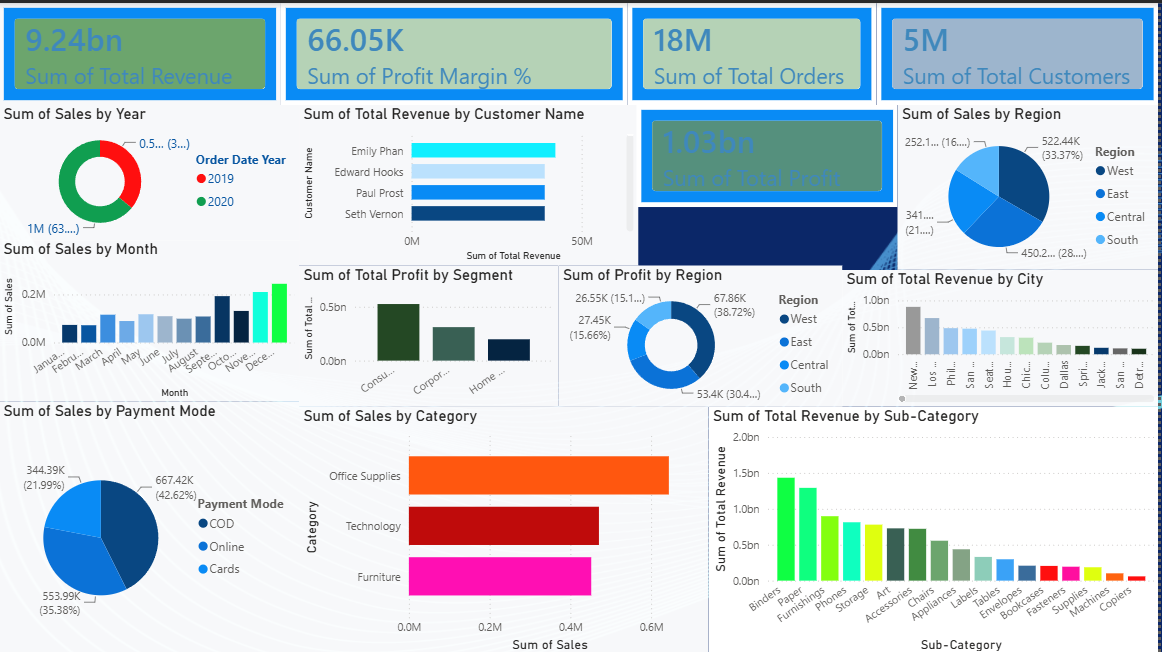

The dashboard page shown, as its layout file describes it:
{"tool":"powerbi","page":{"name":"Page 1","canvas":[1280,720],"ordinal":0},"visuals":[{"type":"clusteredBarChart","fields":{"Category":["SuperStore_Sales_Dataset.Category"],"Y":["Sum(SuperStore_Sales_Dataset.Sales)"]},"box":[331.3,445.6,452.2,275],"z":0},{"type":"pieChart","fields":{"Y":["Sum(SuperStore_Sales_Dataset.Sales)"],"Category":["SuperStore_Sales_Dataset.Payment Mode"]},"box":[0,440.6,331.3,279.9],"z":1000},{"type":"columnChart","fields":{"Y":["Sum(SuperStore_Sales_Dataset.Total Revenue)"],"Category":["SuperStore_Sales_Dataset.Sub-Category"]},"box":[783.5,445.6,496.9,275],"z":2000},{"type":"cardVisual","fields":{"Data":["Sum(SuperStore_Sales_Dataset.Total Revenue)"]},"box":[0,0,311.4,112.6],"z":3000},{"type":"cardVisual","fields":{"Data":["Sum(SuperStore_Sales_Dataset.Total Profit)"]},"box":[704,112.6,288.2,112.6],"z":4000},{"type":"cardVisual","fields":{"Data":["Sum(SuperStore_Sales_Dataset.Total Orders)"]},"box":[694.1,0,275,112.6],"z":5000},{"type":"cardVisual","fields":{"Data":["Sum(SuperStore_Sales_Dataset.Total Customers)"]},"box":[969,0,311.4,112.6],"z":6000},{"type":"donutChart","fields":{"Y":["Sum(SuperStore_Sales_Dataset.Sales)"],"Category":["SuperStore_Sales_Dataset.Order Date.Variation.Date Hierarchy.Year","SuperStore_Sales_Dataset.Order Date.Variation.Date Hierarchy.Month"]},"box":[0,112.6,331.3,149.1],"z":7000},{"type":"clusteredColumnChart","fields":{"Y":["Sum(SuperStore_Sales_Dataset.Sales)"],"Category":["SuperStore_Sales_Dataset.Order Date.Variation.Date Hierarchy.Month"]},"box":[0,261.7,331.3,178.9],"z":8000},{"type":"pieChart","fields":{"Category":["SuperStore_Sales_Dataset.Region"],"Y":["Sum(SuperStore_Sales_Dataset.Sales)"]},"box":[992.2,112.6,288.2,182.2],"z":9000},{"type":"donutChart","fields":{"Category":["SuperStore_Sales_Dataset.Region"],"Y":["Sum(SuperStore_Sales_Dataset.Profit)"]},"box":[617.9,289.9,313.1,155.7],"z":10000},{"type":"columnChart","fields":{"Y":["Sum(SuperStore_Sales_Dataset.Total Revenue)"],"Category":["SuperStore_Sales_Dataset.City"]},"box":[930.9,294.9,349.5,150.7],"z":11000},{"type":"clusteredBarChart","fields":{"Y":["Sum(SuperStore_Sales_Dataset.Total Revenue)"],"Category":["SuperStore_Sales_Dataset.Customer Name"]},"box":[331.3,112.6,374.4,177.2],"z":12000},{"type":"columnChart","fields":{"Y":["Sum(SuperStore_Sales_Dataset.Total Profit)"],"Category":["SuperStore_Sales_Dataset.Segment"]},"box":[331.3,289.9,286.6,155.7],"z":13000},{"type":"cardVisual","fields":{"Data":["Sum(SuperStore_Sales_Dataset.Profit Margin %)"]},"box":[311.4,0,382.6,112.6],"z":14000}]}

Visuals, with their boxes in screenshot pixels (x1, y1, x2, y2), scaled from the page's 1280x720 canvas onto the 1162x652 screenshot:
clusteredBarChart - SuperStore_Sales_Dataset.Category x Sum(SuperStore_Sales_Dataset.Sales): x1=301 y1=404 x2=711 y2=651
pieChart - Sum(SuperStore_Sales_Dataset.Sales) x SuperStore_Sales_Dataset.Payment Mode: x1=0 y1=399 x2=301 y2=651
columnChart - Sum(SuperStore_Sales_Dataset.Total Revenue) x SuperStore_Sales_Dataset.Sub-Category: x1=711 y1=404 x2=1161 y2=651
cardVisual - Sum(SuperStore_Sales_Dataset.Total Revenue): x1=0 y1=0 x2=283 y2=102
cardVisual - Sum(SuperStore_Sales_Dataset.Total Profit): x1=639 y1=102 x2=901 y2=204
cardVisual - Sum(SuperStore_Sales_Dataset.Total Orders): x1=630 y1=0 x2=880 y2=102
cardVisual - Sum(SuperStore_Sales_Dataset.Total Customers): x1=880 y1=0 x2=1161 y2=102
donutChart - Sum(SuperStore_Sales_Dataset.Sales) x SuperStore_Sales_Dataset.Order Date.Variation.Date Hierarchy.Year: x1=0 y1=102 x2=301 y2=237
clusteredColumnChart - Sum(SuperStore_Sales_Dataset.Sales) x SuperStore_Sales_Dataset.Order Date.Variation.Date Hierarchy.Month: x1=0 y1=237 x2=301 y2=399
pieChart - SuperStore_Sales_Dataset.Region x Sum(SuperStore_Sales_Dataset.Sales): x1=901 y1=102 x2=1161 y2=267
donutChart - SuperStore_Sales_Dataset.Region x Sum(SuperStore_Sales_Dataset.Profit): x1=561 y1=263 x2=845 y2=404
columnChart - Sum(SuperStore_Sales_Dataset.Total Revenue) x SuperStore_Sales_Dataset.City: x1=845 y1=267 x2=1161 y2=404
clusteredBarChart - Sum(SuperStore_Sales_Dataset.Total Revenue) x SuperStore_Sales_Dataset.Customer Name: x1=301 y1=102 x2=641 y2=262
columnChart - Sum(SuperStore_Sales_Dataset.Total Profit) x SuperStore_Sales_Dataset.Segment: x1=301 y1=263 x2=561 y2=404
cardVisual - Sum(SuperStore_Sales_Dataset.Profit Margin %): x1=283 y1=0 x2=630 y2=102
